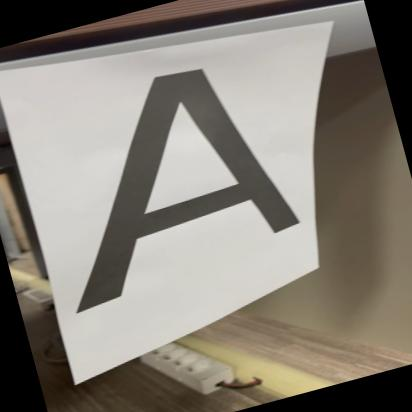seat: (8, 32, 312, 316)
